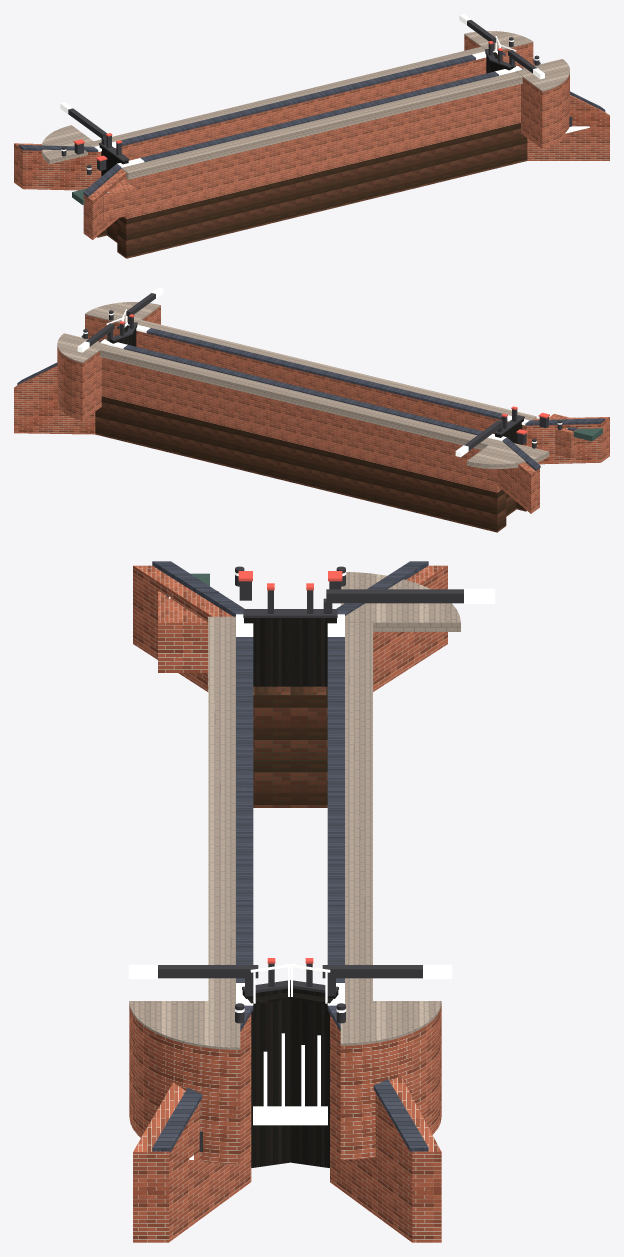
The model's file is lock-54.glb.
3 views of the same model, one above another, from view 1: azimuth 30°, elevation 25°; view 2: azimuth 150°, elevation 25°; view 3: azimuth 270°, elevation 25° (orthographic). The views are drawn at different scales.
Parts seen in each view (by area): view 1: Chamber, ChamberWet, Edge, Coping.001, TopGateCap, Coping, TopGate; view 2: Chamber, ChamberWet, Edge, Coping.001, TopGateCap, Coping, TopGate; view 3: Chamber, Edge, Coping.001, TopGate, ChamberWet, TopGateCap, Coping, Leak.
Part boxes in pixels (box(x1,y1,x2,y2)): Chamber: box(14, 35, 609, 239); ChamberWet: box(97, 123, 527, 258); Edge: box(41, 31, 569, 179); Coping.001: box(18, 50, 605, 196); TopGateCap: box(61, 20, 572, 174); Coping: box(60, 14, 544, 169); TopGate: box(99, 52, 515, 176); Chamber: box(14, 306, 609, 513); ChamberWet: box(95, 396, 526, 532); Edge: box(57, 302, 549, 468); Coping.001: box(17, 323, 604, 470); TopGateCap: box(83, 293, 562, 450); Coping: box(77, 287, 562, 457); TopGate: box(107, 325, 523, 444); Chamber: box(129, 565, 447, 1242); Edge: box(129, 572, 460, 1049); Coping.001: box(152, 561, 428, 1151); TopGate: box(242, 618, 338, 1167); ChamberWet: box(253, 686, 327, 807); TopGateCap: box(158, 566, 463, 1151); Coping: box(128, 572, 495, 1012); Leak: box(169, 596, 327, 1159).
Bounding box in the file's own units: 33.48 × 6.52 × 10.24.
11 materials, 8 textured.
